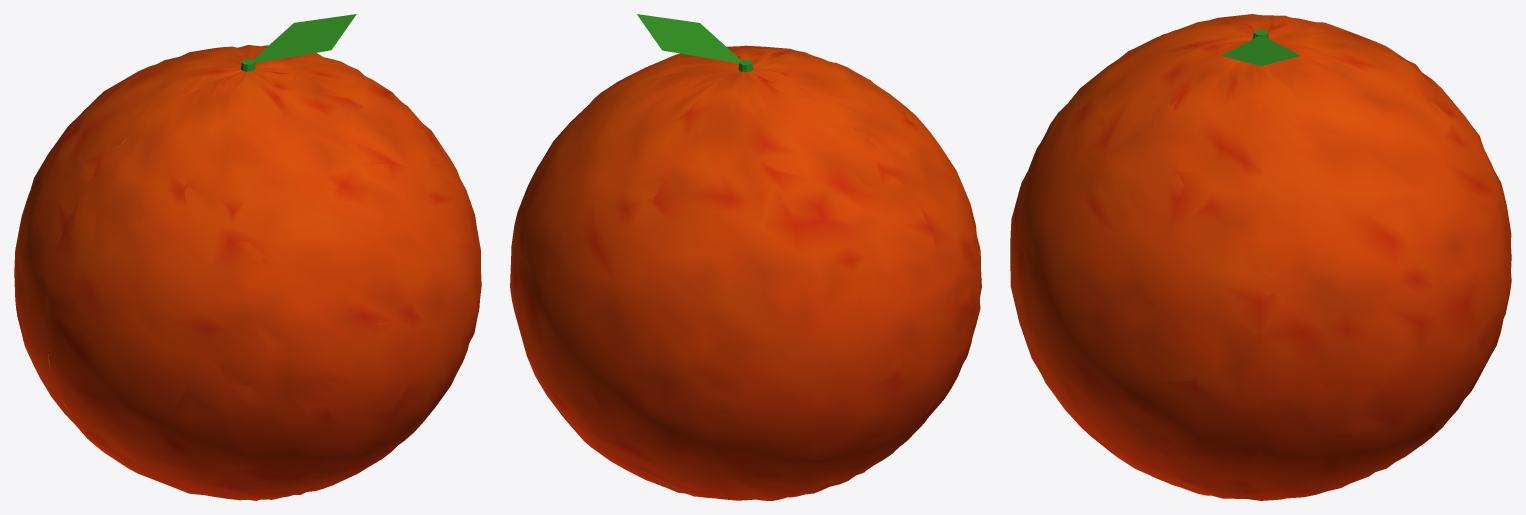
File: orange.glb
3 renders of one model, left to right at view 1: azimuth 30°, elevation 25°; view 2: azimuth 150°, elevation 25°; view 3: azimuth 270°, elevation 25°, orthographic. The views are drawn at different scales.
Visible parts, largest first — view 1: moitie_B_peau, entier_peau, moitie_A_peau, entier_extra0; view 2: entier_peau, moitie_A_peau, moitie_B_peau, entier_extra0; view 3: entier_peau, moitie_B_peau, moitie_A_peau, entier_extra0.
Boxes of the visible parts, x1,y1,x2,y2 form: moitie_B_peau: (45,62,481,500); entier_peau: (14,45,481,500); moitie_A_peau: (14,45,400,446); entier_extra0: (241,14,356,71); entier_peau: (510,46,981,500); moitie_A_peau: (510,62,949,500); moitie_B_peau: (616,45,980,440); entier_extra0: (637,14,753,72); entier_peau: (1010,14,1511,499); moitie_B_peau: (1010,14,1260,500); moitie_A_peau: (1261,15,1511,500); entier_extra0: (1221,29,1300,66).
Bounding box in the file's own units: 2 × 2.05 × 2.
